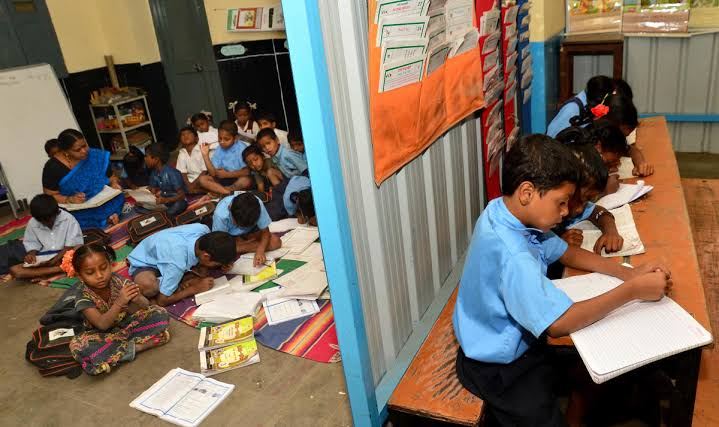student: (495, 133, 581, 239), (19, 195, 82, 263), (213, 193, 281, 251), (562, 128, 601, 217), (69, 243, 123, 287), (191, 232, 245, 271), (139, 139, 181, 189), (236, 141, 266, 183), (213, 117, 241, 158), (225, 101, 255, 135), (188, 106, 214, 142), (173, 127, 202, 157), (251, 128, 279, 159)
